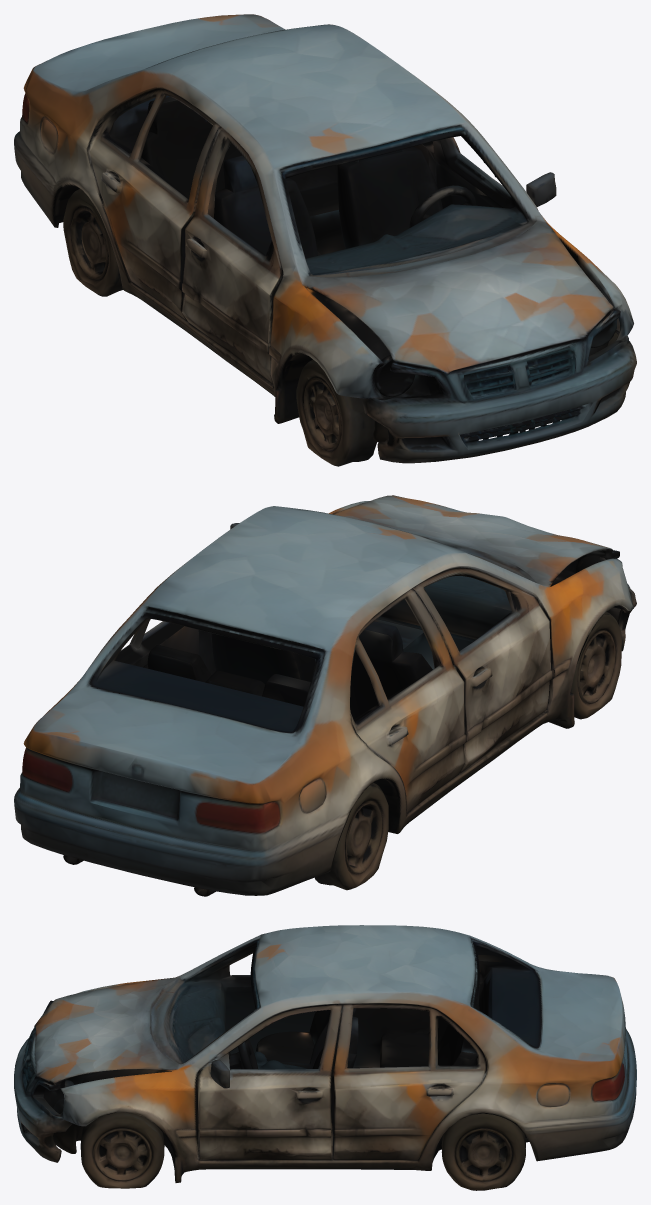
3 renders of one model, top to bottom at view 1: azimuth 30°, elevation 25°; view 2: azimuth 150°, elevation 25°; view 3: azimuth 270°, elevation 25°, orthographic. The views are drawn at different scales.
Parts seen in each view (by area): view 1: node_0; view 2: node_0; view 3: node_0.
Boxes of the visible parts, bbox=[...] form: node_0: bbox=[14, 14, 636, 466]; node_0: bbox=[14, 495, 636, 896]; node_0: bbox=[14, 925, 636, 1190].
Bounding box in the file's own units: 0.5223 × 0.3822 × 1.17.
Materials: 1 (1 with a texture image).
